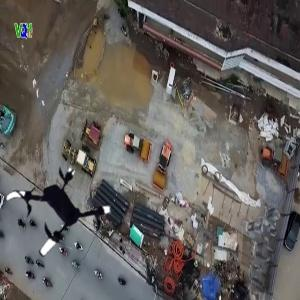drone: (2, 160, 111, 269)
